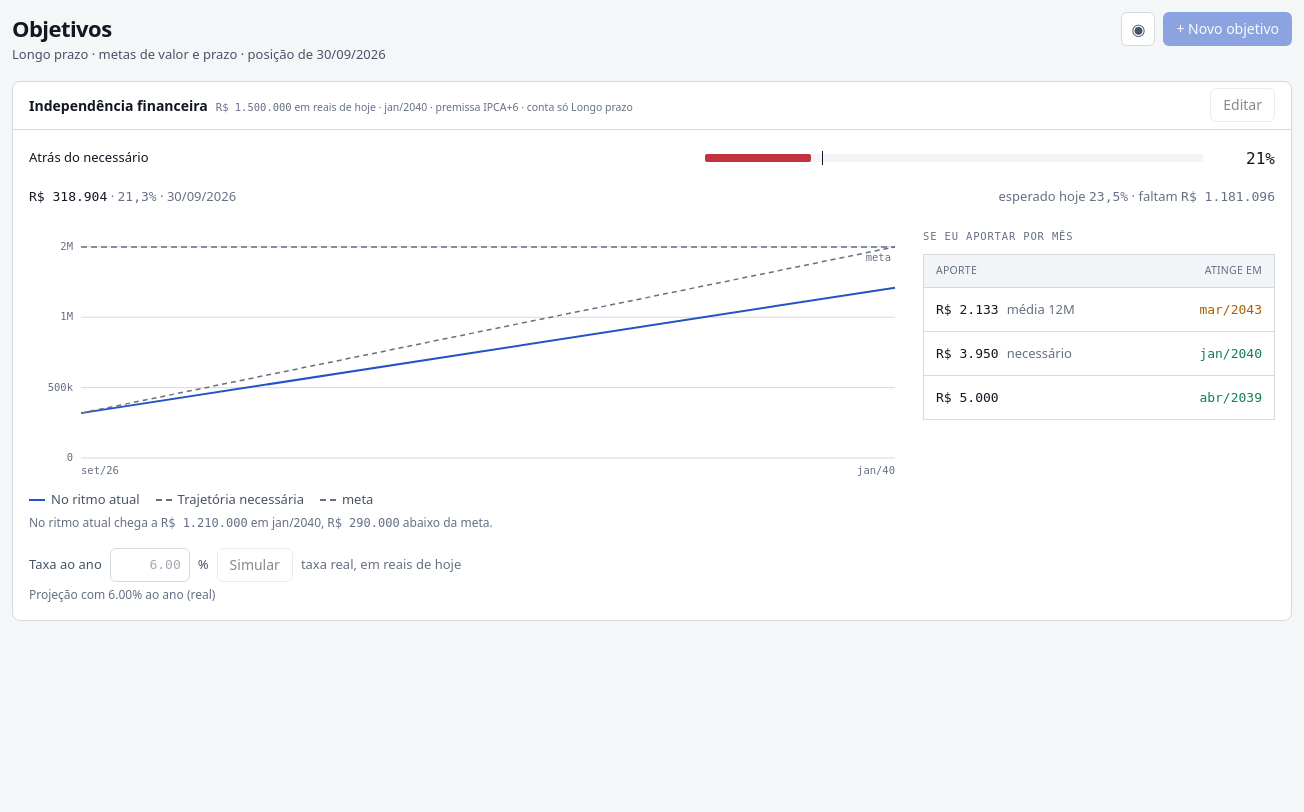
Scenario: GoalsView › taxa inválida avisa e não simula
Type "150" into the field labelled "Taxa ao ano %" at (150, 564), box [110,548,190,582]
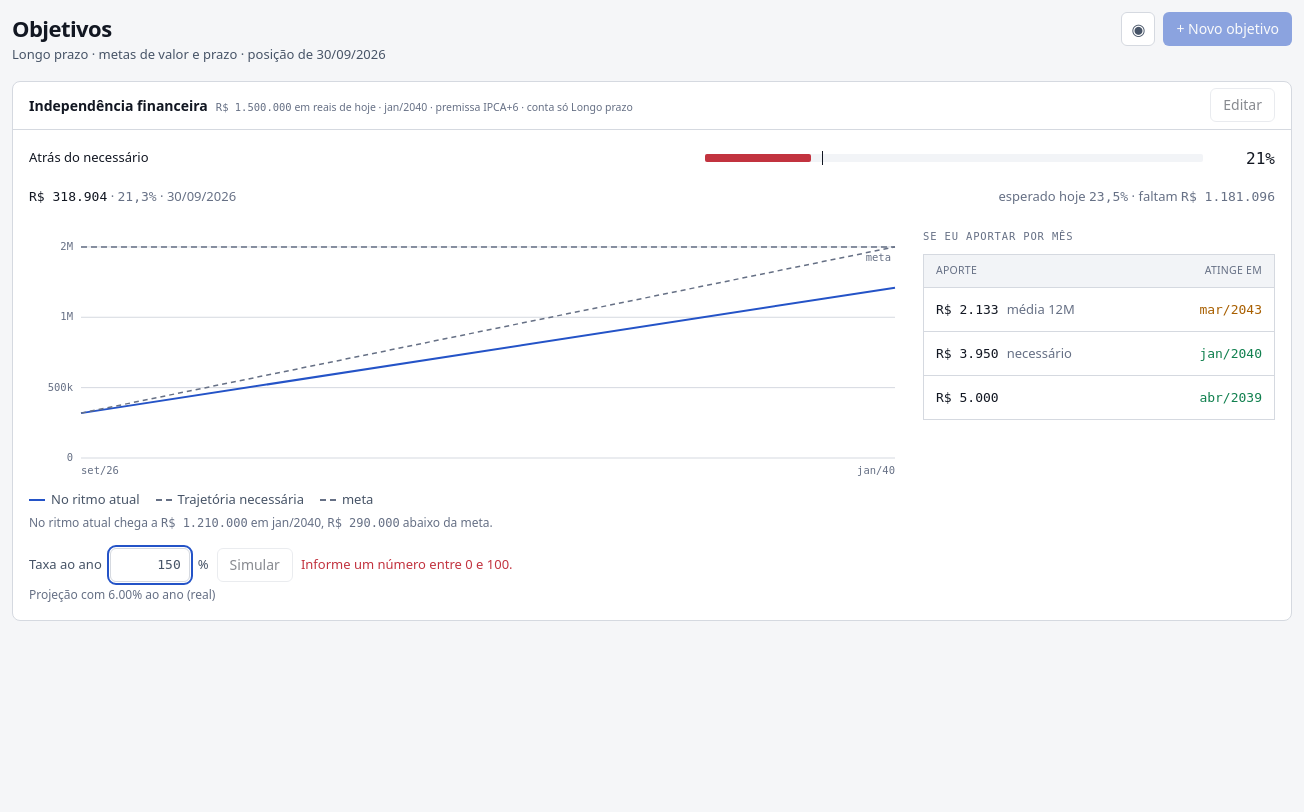
Expected: the button "Simular" is disabled, [217,548,293,582]
Expected: the message shows "entre 0 e 100", [301,555,513,573]
